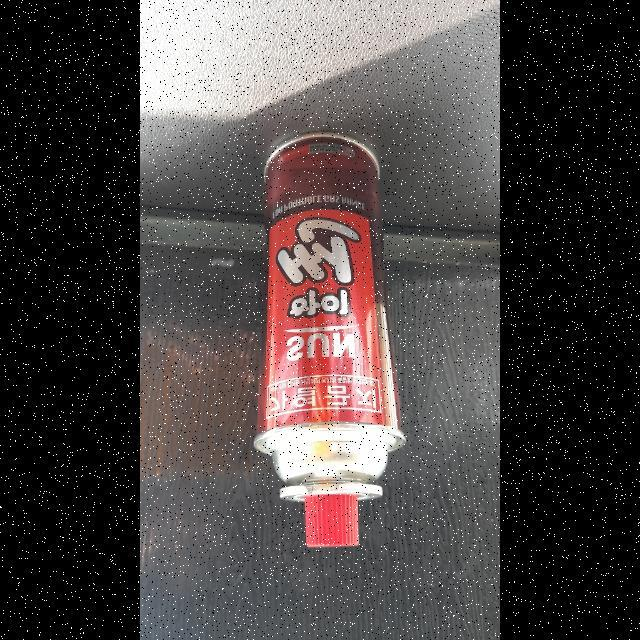chemical_spray_can: (240, 126, 412, 552)
